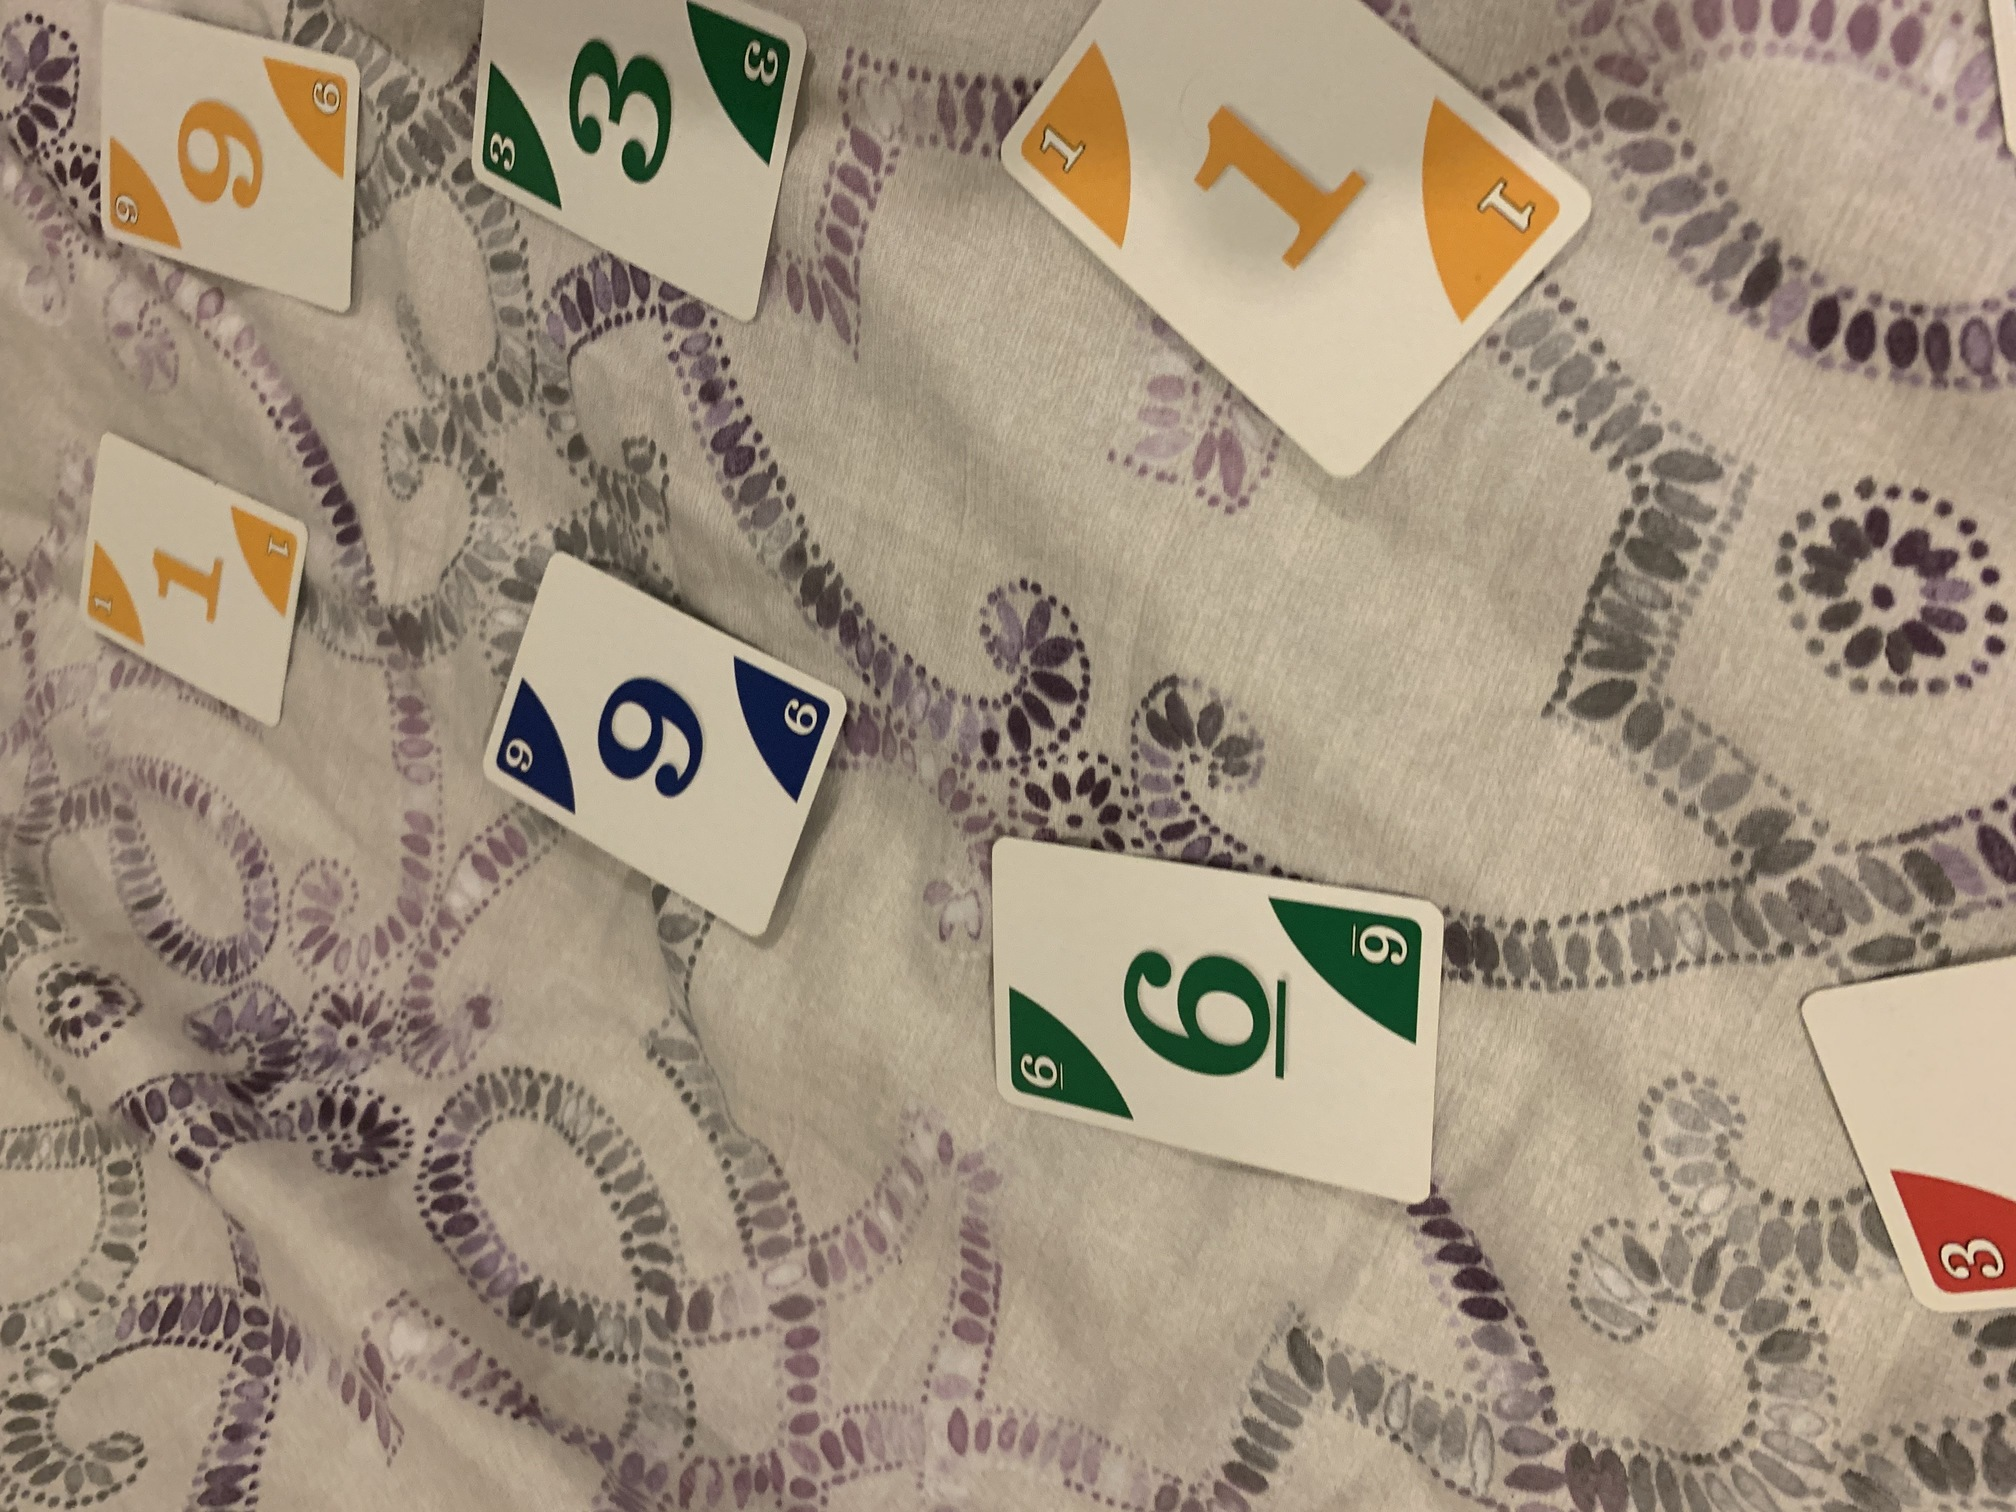nine: (475, 546, 843, 947), (90, 6, 362, 318)
one: (997, 2, 1606, 503), (73, 429, 313, 735)
six: (970, 831, 1465, 1221)
three: (464, 2, 813, 341)
